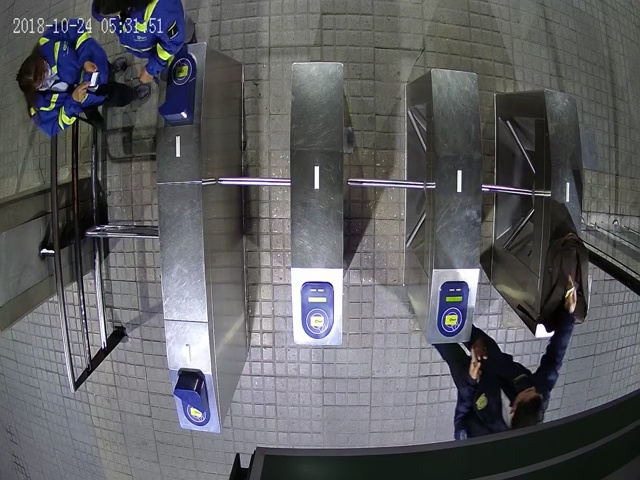Chaleco_azul: (15, 19, 147, 134), (92, 1, 196, 82)
